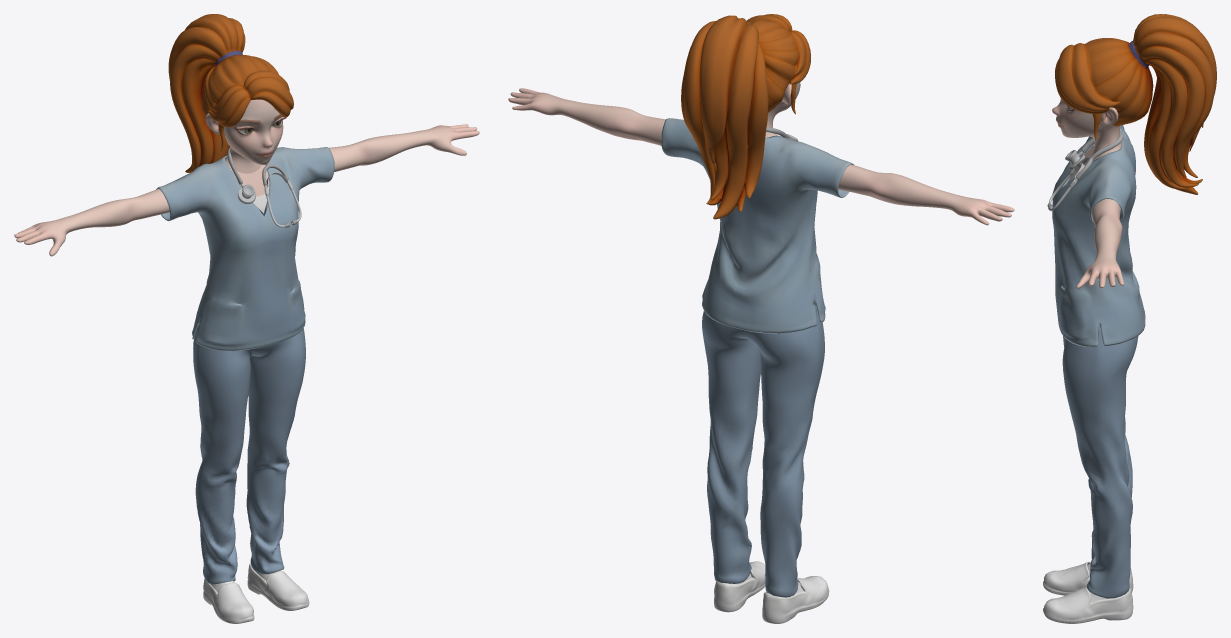
The model's file is brenda_nurse.glb.
3 renders of one model, left to right at view 1: azimuth 30°, elevation 25°; view 2: azimuth 150°, elevation 25°; view 3: azimuth 270°, elevation 25°, orthographic. The views are drawn at different scales.
Visible parts, largest first — view 1: pants_2, shirt_1, hair_0, arm_3, head_7, th2_5, th1_4; view 2: pants_2, shirt_1, hair_0, arm_3, th2_5; view 3: hair_0, pants_2, shirt_1, th2_5, arm_3, head_7, th1_4.
Part boxes in pixels (left/top/right/bottom): pants_2: left=193, top=326, right=305, bottom=584; shirt_1: left=156, top=147, right=334, bottom=350; hair_0: left=168, top=14, right=293, bottom=172; arm_3: left=14, top=124, right=479, bottom=256; head_7: left=205, top=99, right=286, bottom=213; th2_5: left=203, top=562, right=309, bottom=623; th1_4: left=227, top=147, right=301, bottom=227; pants_2: left=702, top=305, right=824, bottom=597; shirt_1: left=661, top=118, right=854, bottom=333; hair_0: left=681, top=14, right=810, bottom=219; arm_3: left=508, top=88, right=1014, bottom=225; th2_5: left=714, top=561, right=829, bottom=623; hair_0: left=1055, top=14, right=1216, bottom=194; pants_2: left=1062, top=322, right=1138, bottom=598; shirt_1: left=1052, top=125, right=1145, bottom=346; th2_5: left=1043, top=561, right=1133, bottom=623; arm_3: left=1076, top=145, right=1123, bottom=288; head_7: left=1052, top=98, right=1121, bottom=183; th1_4: left=1047, top=131, right=1123, bottom=211.
Bounding box in the file's own units: 1.48 × 1.73 × 0.4643.
Materials: 8 (8 with a texture image).
